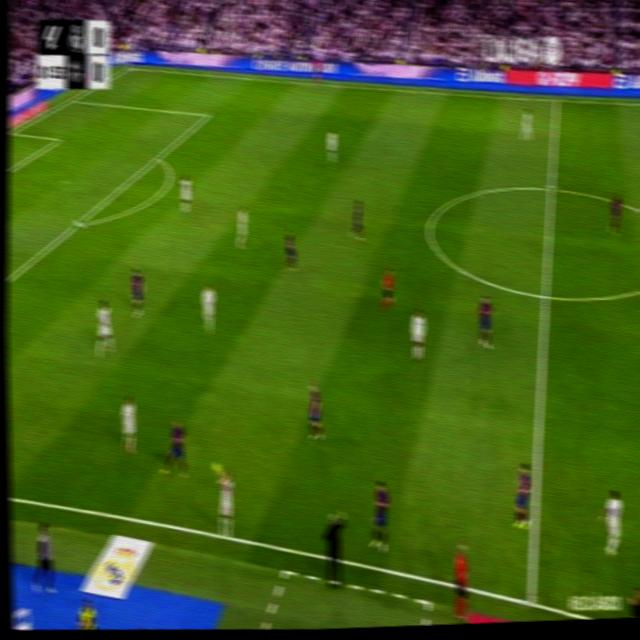bigarea_top_inner: (203, 107, 212, 121)
bottom_arc_area_intersection: (72, 213, 85, 231)
corner: (124, 62, 133, 70)
halfcircle_bottom: (539, 281, 553, 309)
halfcircle_top: (545, 177, 558, 199)
midline_bottom_intersection: (522, 591, 539, 612)
midline_top_intersection: (551, 93, 560, 107)
smallarea_top_inner: (56, 133, 62, 143)
top_arc_area_intersection: (153, 148, 163, 163)
